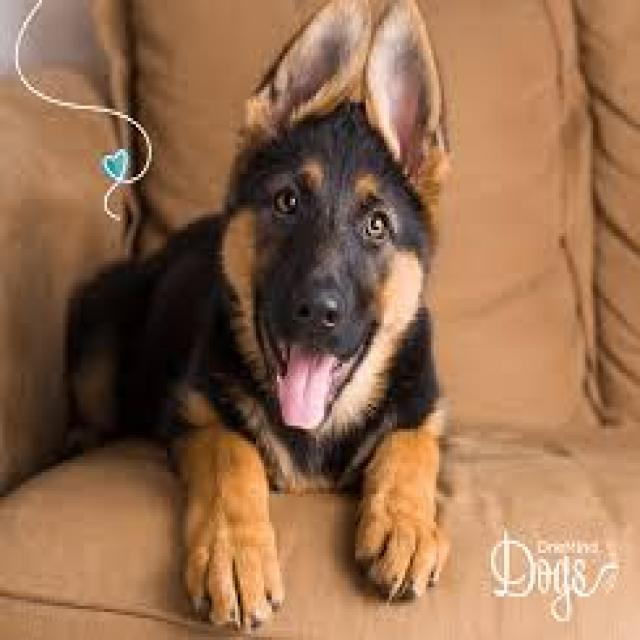GERMAN_SHEPHERD: (52, 0, 473, 615)
